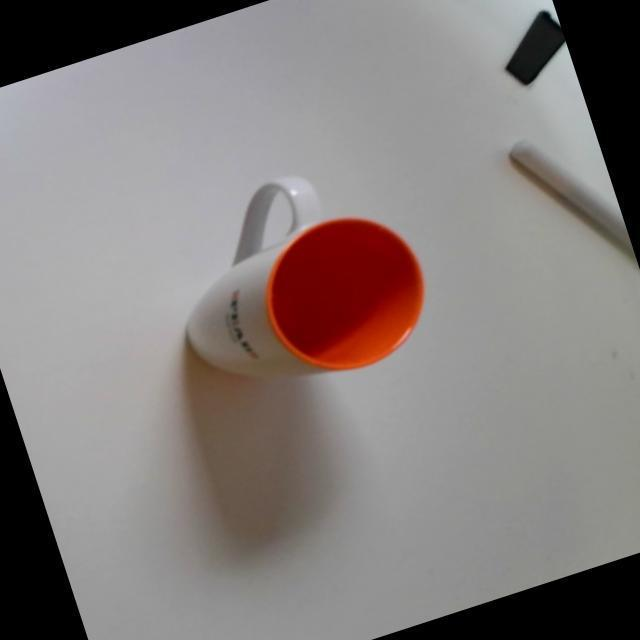cup: (142, 140, 452, 426)
